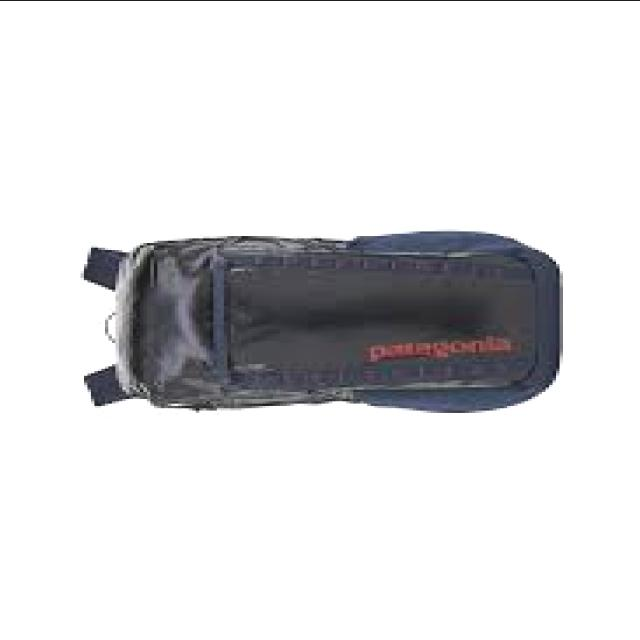backpack: (79, 232, 561, 416)
